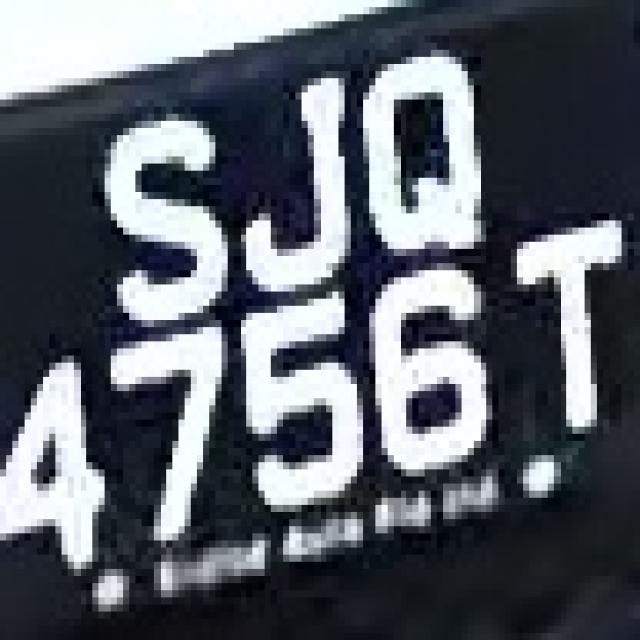4: (0, 313, 117, 590)
5: (215, 277, 363, 498)
6: (351, 284, 498, 490)
7: (80, 313, 228, 576)
J: (222, 49, 363, 298)
Q: (338, 28, 498, 270)
S: (80, 107, 228, 334)
T: (486, 213, 628, 448)
